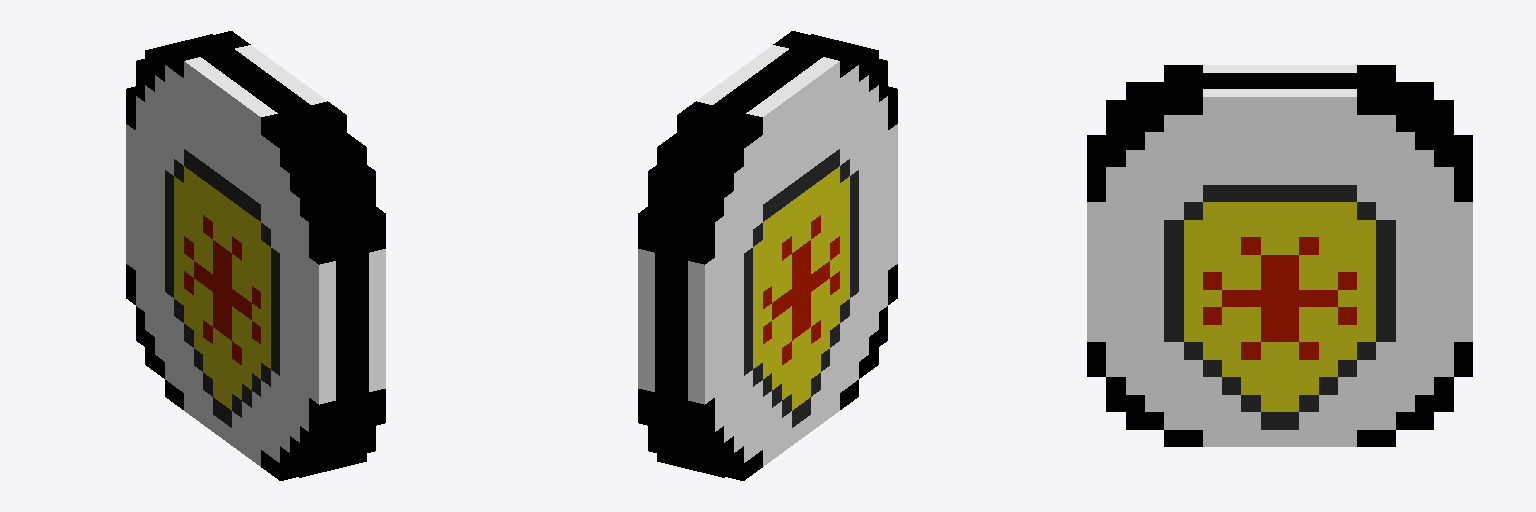
3 views of the same model, side by side, from view 1: azimuth 30°, elevation 25°; view 2: azimuth 150°, elevation 25°; view 3: azimuth 270°, elevation 25° (orthographic).
Size of the model in its own units: 4 by 20 by 20.
1 materials, 1 textured.